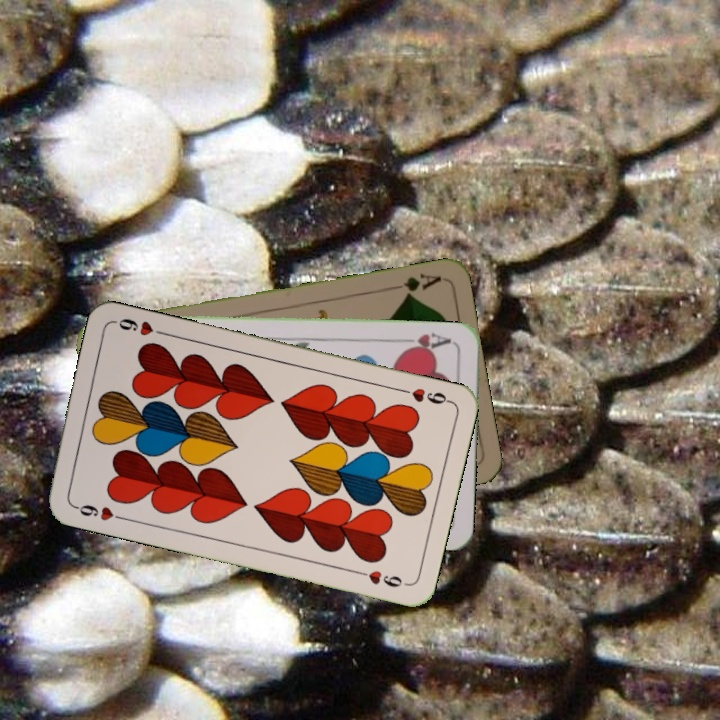GA: (385, 269, 444, 300)
H9: (69, 500, 127, 524), (394, 384, 453, 407)
HA: (396, 329, 453, 355)
